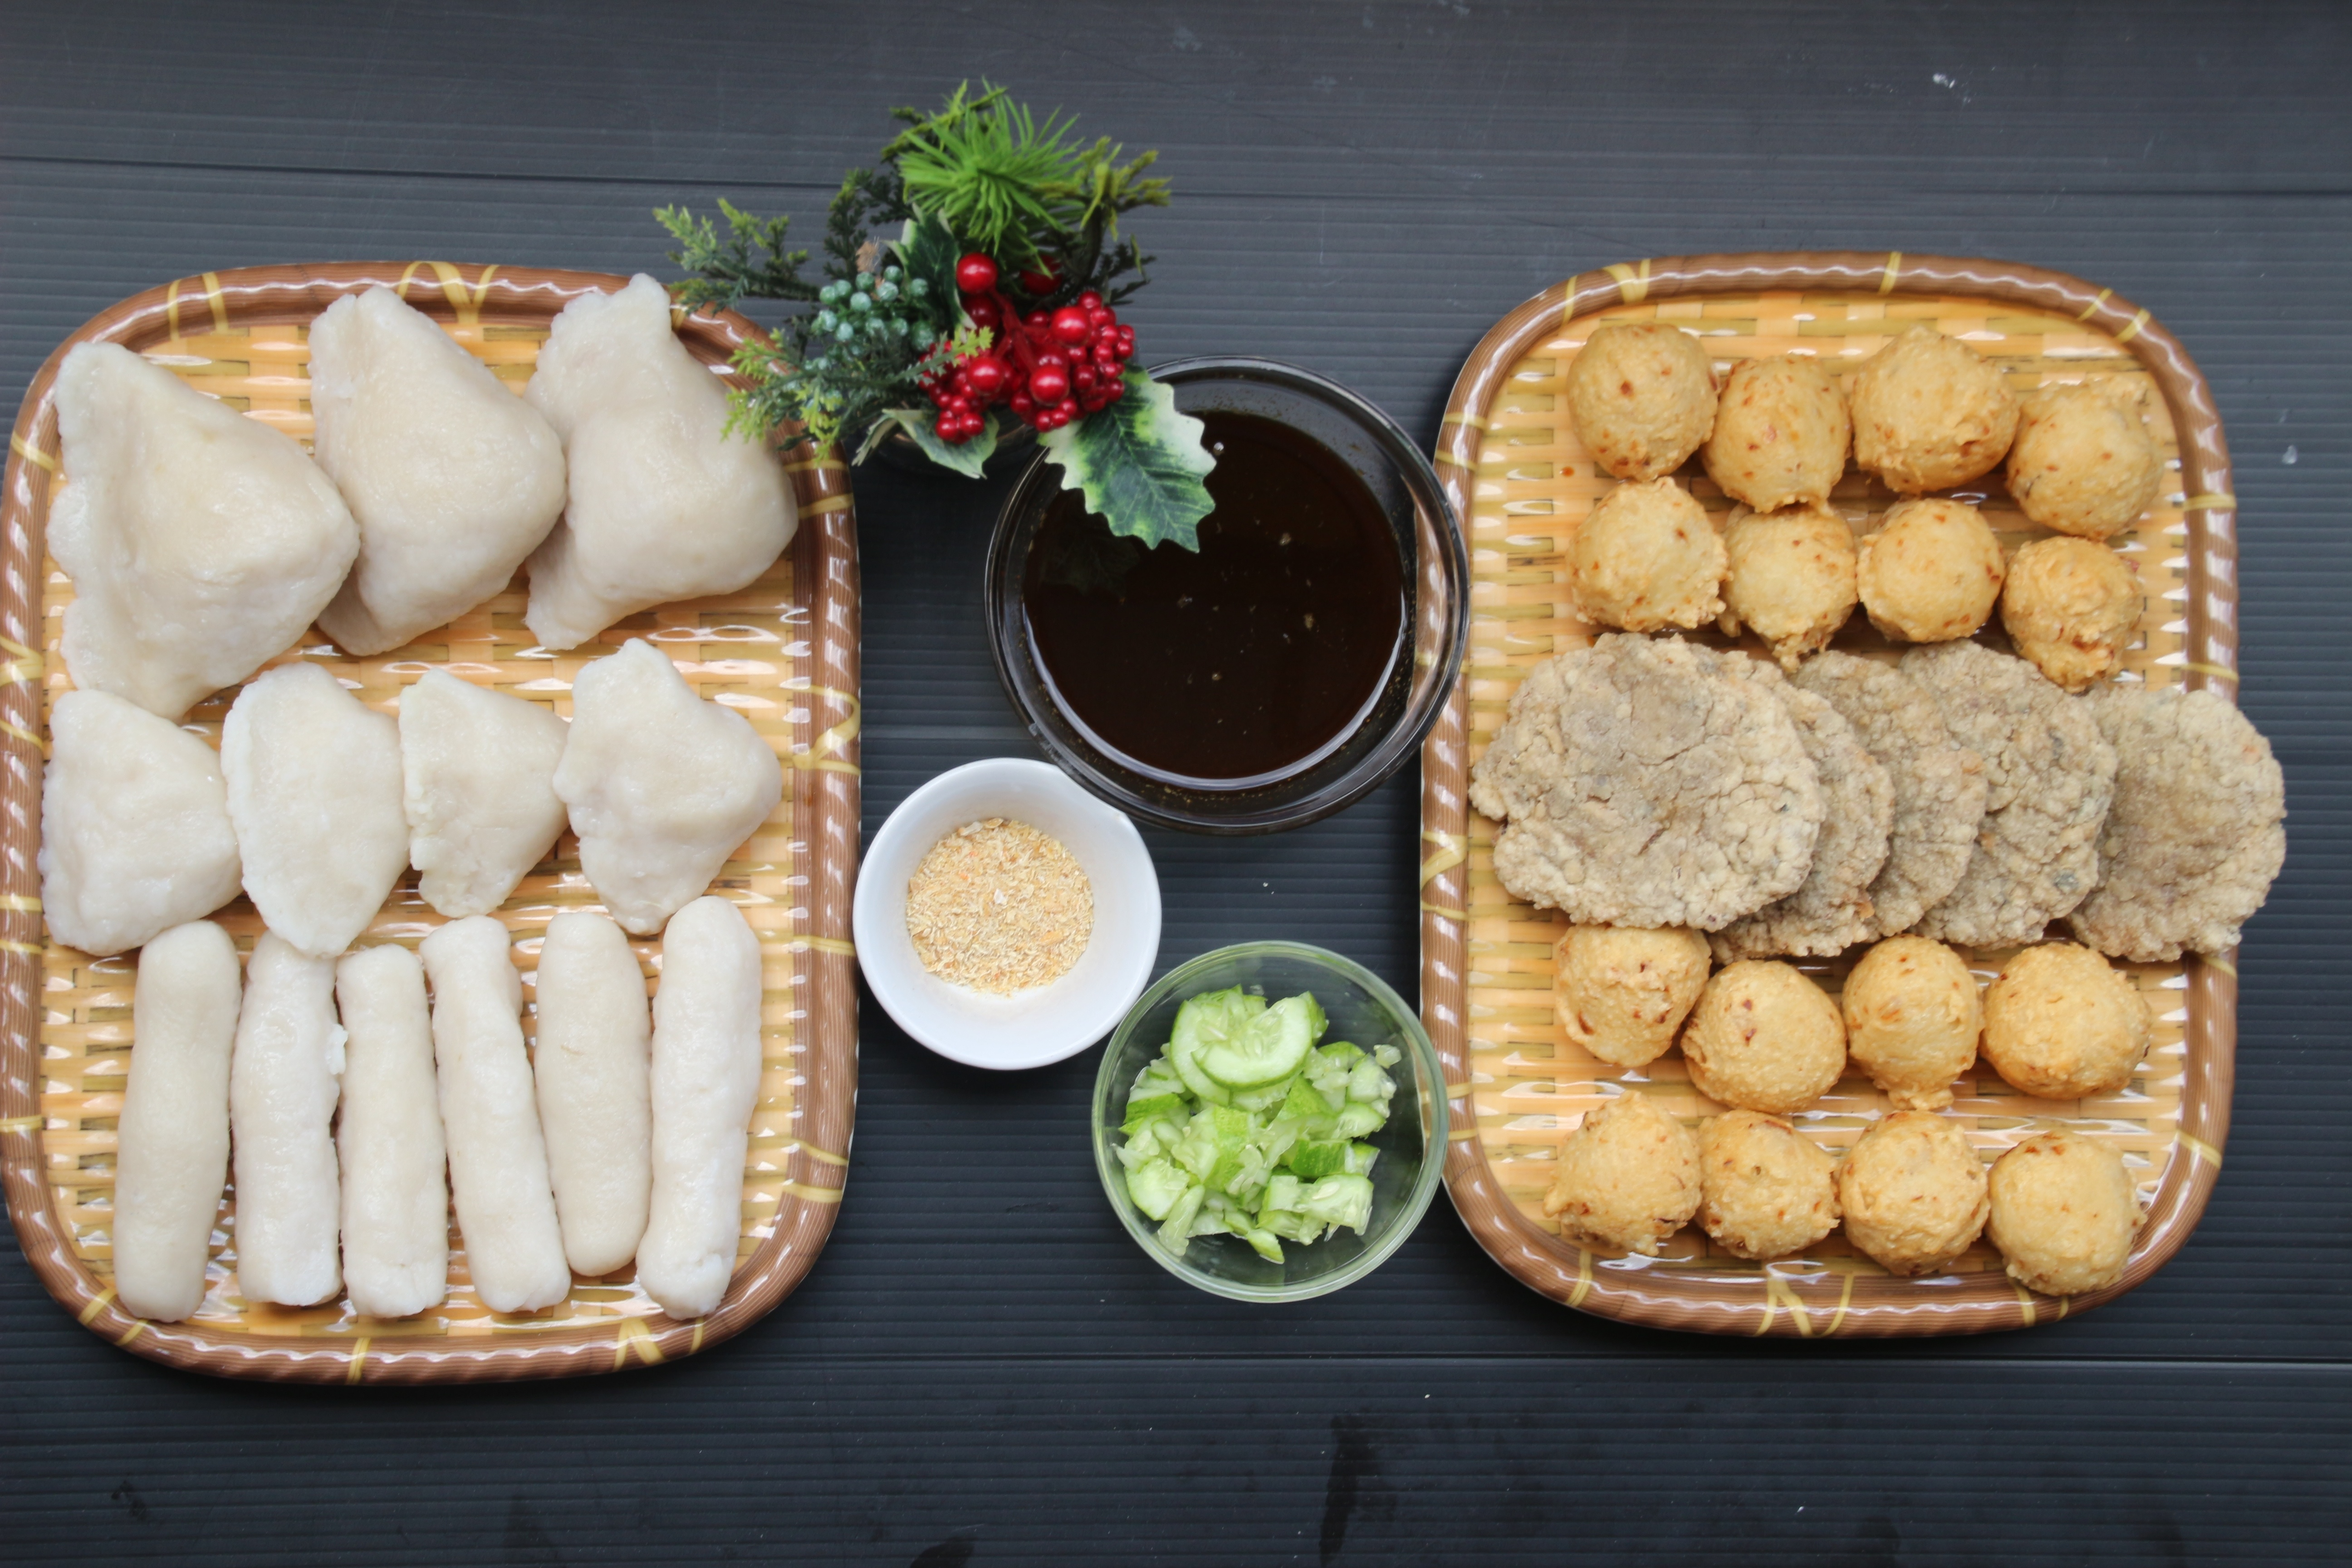pempek: (1479, 313, 2271, 1291)
